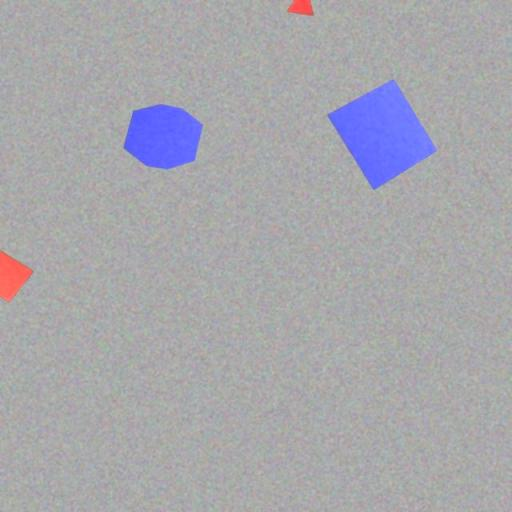BLUE_SQUARE: (326, 78, 438, 190)
RED_SQUARE: (0, 249, 34, 302)
